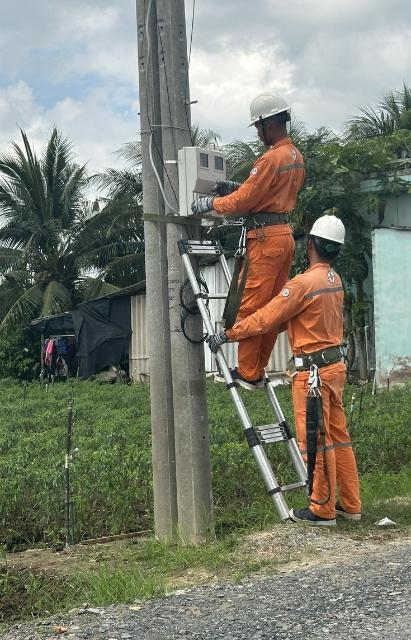gloves: (199, 321, 236, 355), (207, 172, 258, 192), (190, 187, 222, 214)
harness: (266, 334, 372, 380), (221, 208, 305, 241)
helmet: (229, 84, 318, 149), (296, 216, 365, 253)
shoes: (203, 366, 257, 401), (278, 500, 338, 531), (320, 497, 367, 525)
